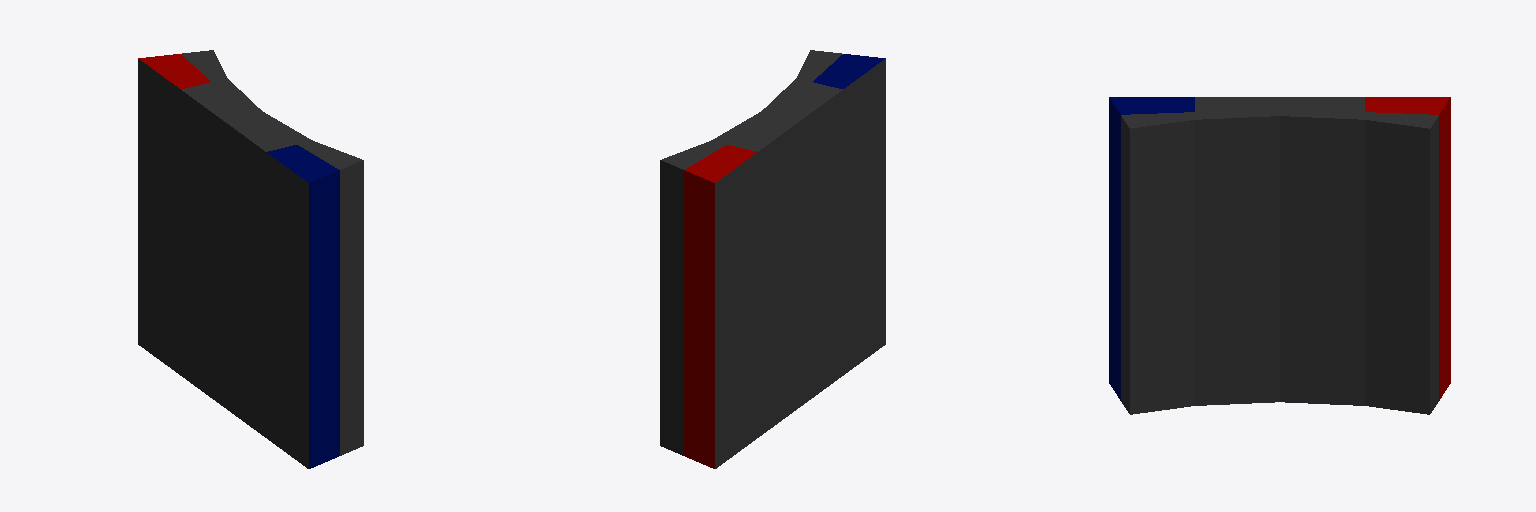
The model's file is rocker_switch.obj.
3 views of the same model, side by side, from view 1: azimuth 30°, elevation 25°; view 2: azimuth 150°, elevation 25°; view 3: azimuth 270°, elevation 25° (orthographic).
Visible parts, largest first — view 1: Plane; view 2: Plane; view 3: Plane.
Boxes of the visible parts, x1,y1,x2,y2 form: Plane: [138, 50, 363, 468]; Plane: [660, 50, 885, 468]; Plane: [1109, 97, 1450, 414].
Size of the model in its own units: 0.0138 by 0.0582 by 0.0629.